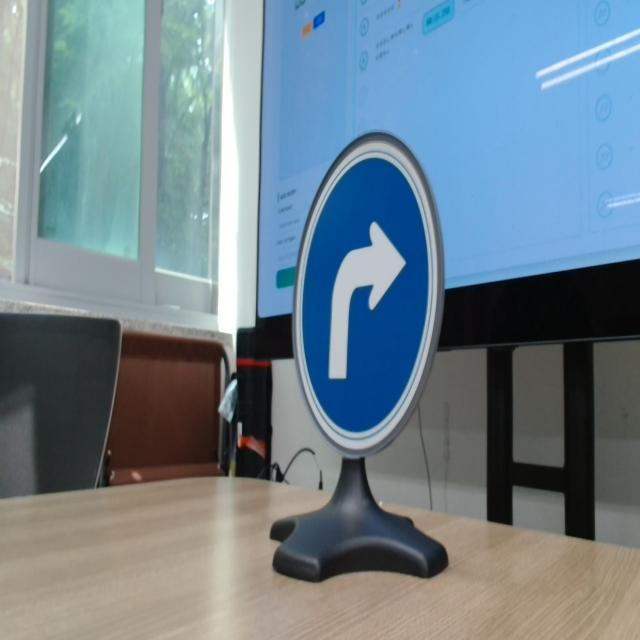right_dierection: (292, 131, 447, 458)
